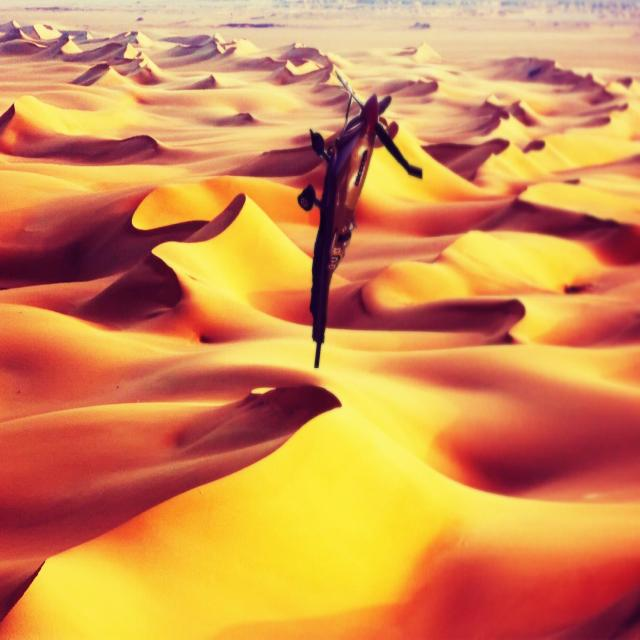airplane: (298, 71, 422, 370)
